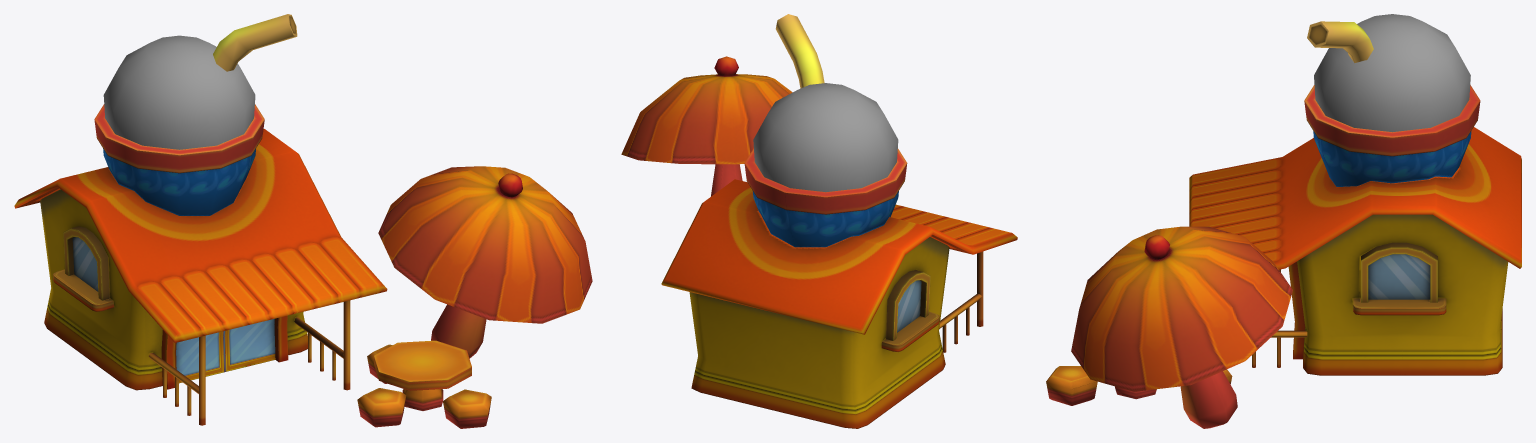
The model's file is NoAnim_DrinkBar.FBX.
The picture shows the model from 3 angles, left to right: view 1: azimuth 30°, elevation 25°; view 2: azimuth 150°, elevation 25°; view 3: azimuth 270°, elevation 25°; orthographic projection. The views are drawn at different scales.
Visible parts, largest first — view 1: NoAnim_DrinkBar; view 2: NoAnim_DrinkBar; view 3: NoAnim_DrinkBar.
Part boxes in pixels (x1,y1,x2,y2): NoAnim_DrinkBar: (14,14,592,428); NoAnim_DrinkBar: (621,14,1017,428); NoAnim_DrinkBar: (1046,14,1521,428).
Size of the model in its own units: 103 by 82.12 by 102.
